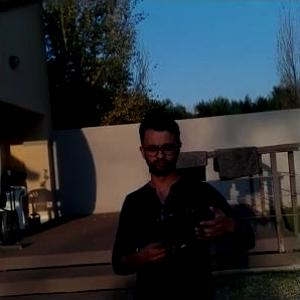follow: (105, 106, 258, 299)
